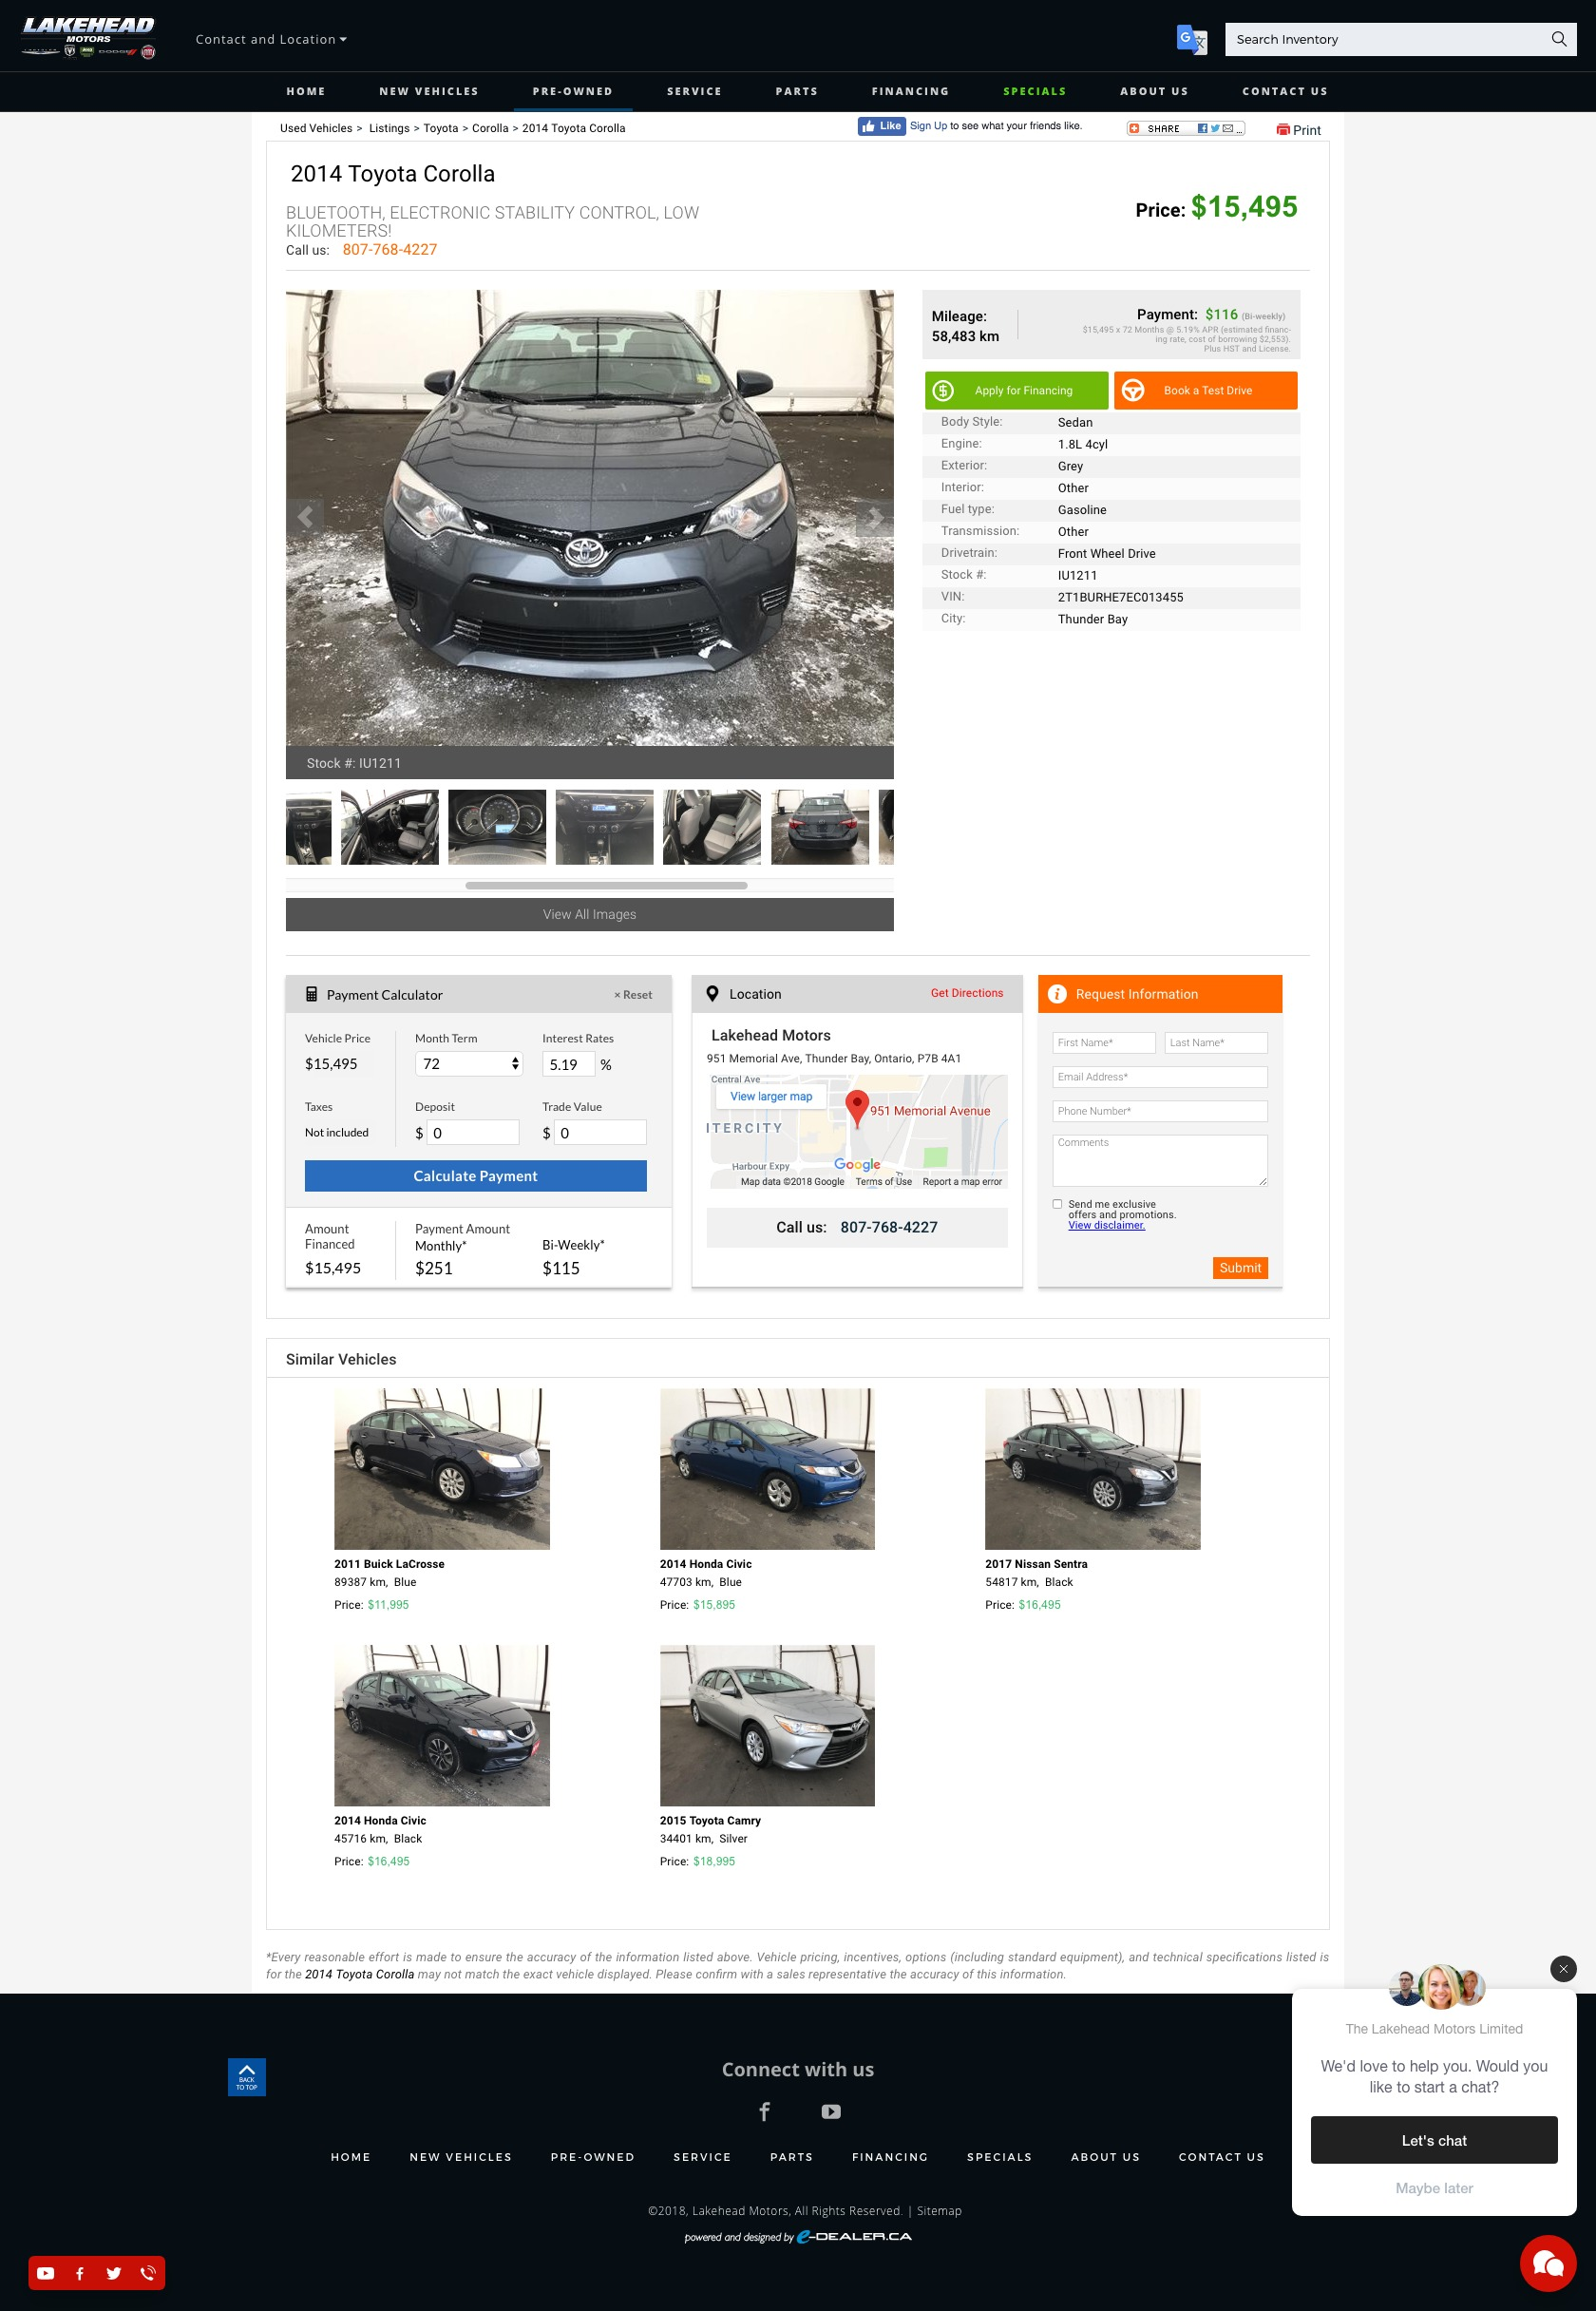car: (855, 500, 895, 539)
